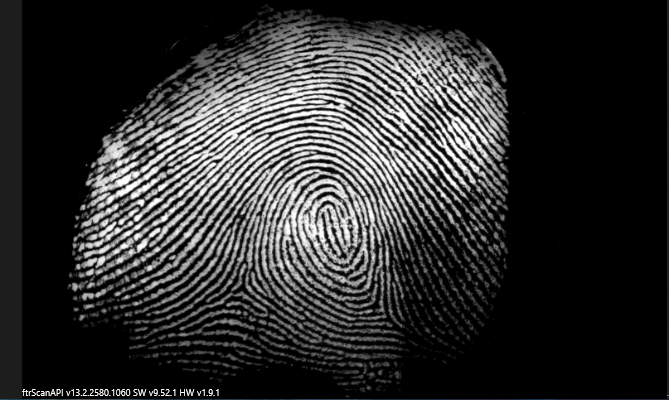nucelo: (319, 204, 343, 243)
verticilo: (228, 270, 260, 300), (368, 261, 393, 282)
